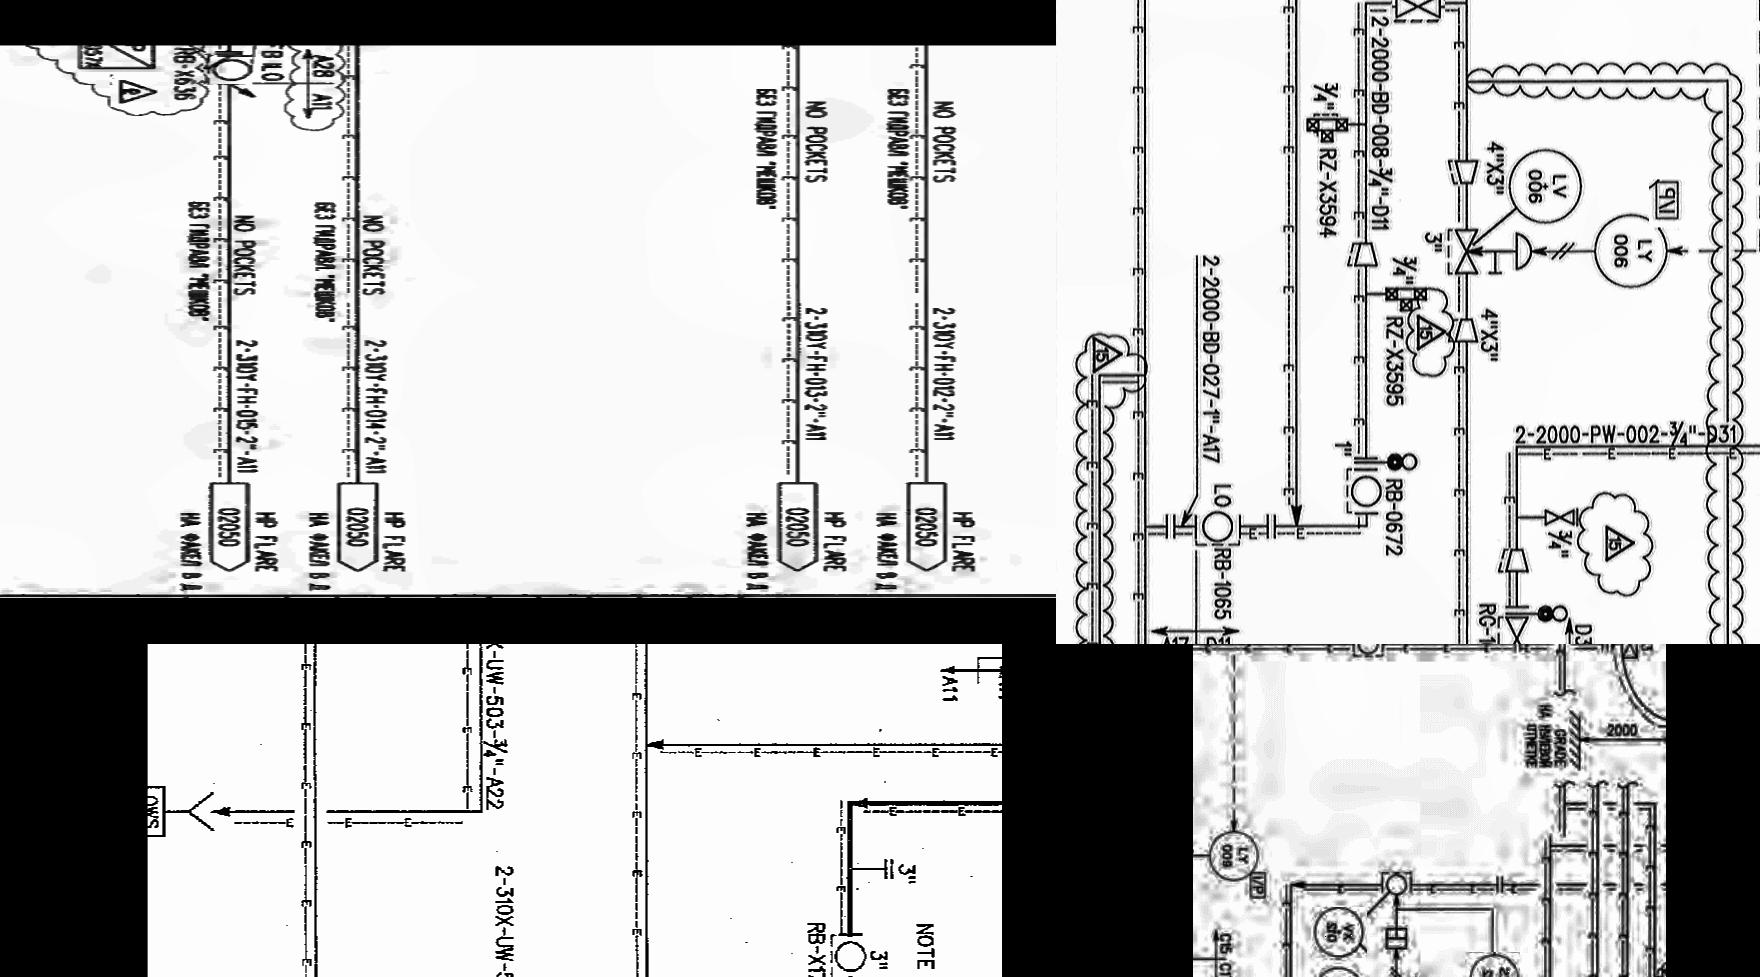2 WAY VALVE: (1304, 112, 1356, 147), (1382, 278, 1424, 312)
CONCENTRIC REDUCER: (1345, 233, 1383, 272), (1450, 312, 1482, 345), (1448, 154, 1481, 186), (1498, 545, 1534, 574)
DIAPHRAGM ACTUATED VALVE: (1446, 225, 1535, 276)
END FLANGED: (1258, 507, 1285, 547), (1157, 508, 1179, 547), (876, 851, 900, 886)
FIELD INSTRUMENT: (1506, 146, 1582, 225), (1593, 213, 1667, 289), (1207, 829, 1262, 886), (1311, 908, 1365, 960), (1197, 508, 1244, 547), (831, 934, 871, 976), (200, 55, 250, 84), (1462, 952, 1518, 977), (1345, 474, 1385, 508), (1379, 868, 1414, 898), (1311, 965, 1362, 977), (1351, 644, 1383, 658)
GATE VALVE: (1541, 501, 1580, 531), (1389, 0, 1442, 20), (1497, 612, 1528, 644)
HARDWIRED INTERLOCK FIELD: (1404, 972, 1426, 977)
IP CONVERTER: (1648, 179, 1688, 227), (1246, 870, 1270, 902)
REVISION TRIANGLE: (1080, 332, 1130, 375), (108, 75, 167, 107), (1414, 310, 1450, 355), (1601, 523, 1640, 563)
SPECTACLE BLIND CLOSED: (1346, 448, 1426, 476), (1505, 596, 1576, 624)
SPECTACLE BLIND OPEN: (1593, 644, 1617, 662)
TUNDISH OPEN: (167, 777, 218, 845)
